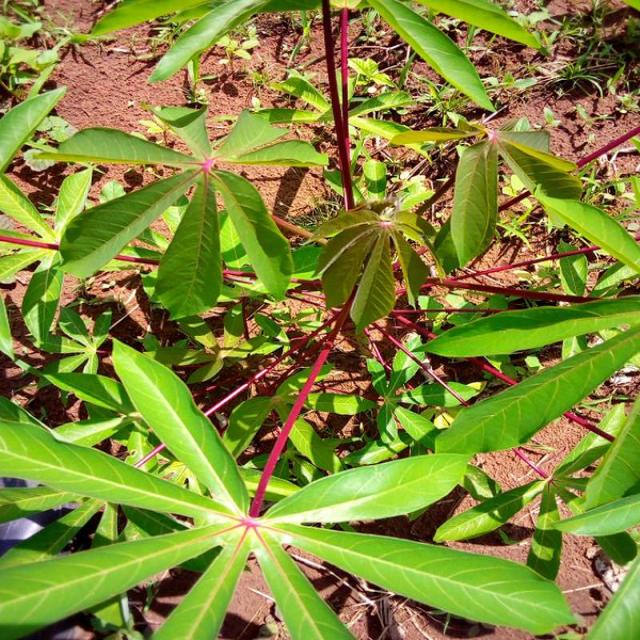cassava leaf: (0, 333, 577, 638), (37, 100, 328, 321), (110, 335, 250, 518)
